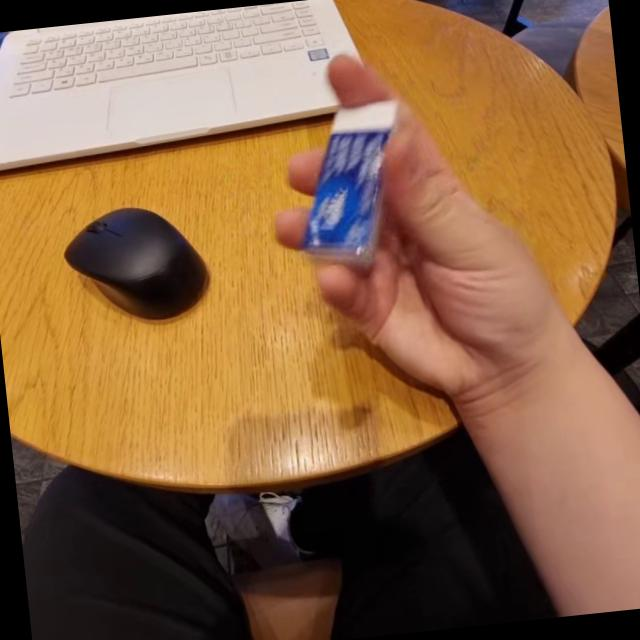eraser: (296, 89, 426, 254)
grab_eraser: (274, 43, 530, 398)
mouse: (54, 193, 230, 348)
